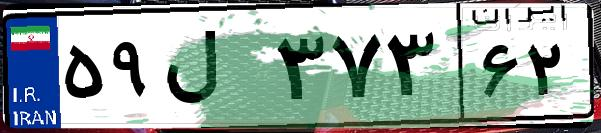2: (525, 38, 570, 115)
3: (270, 28, 330, 110), (385, 28, 445, 110)
5: (57, 26, 110, 100)
6: (475, 38, 525, 113)
7: (330, 28, 385, 110)
9: (110, 28, 158, 98)
ل: (158, 20, 270, 120)
